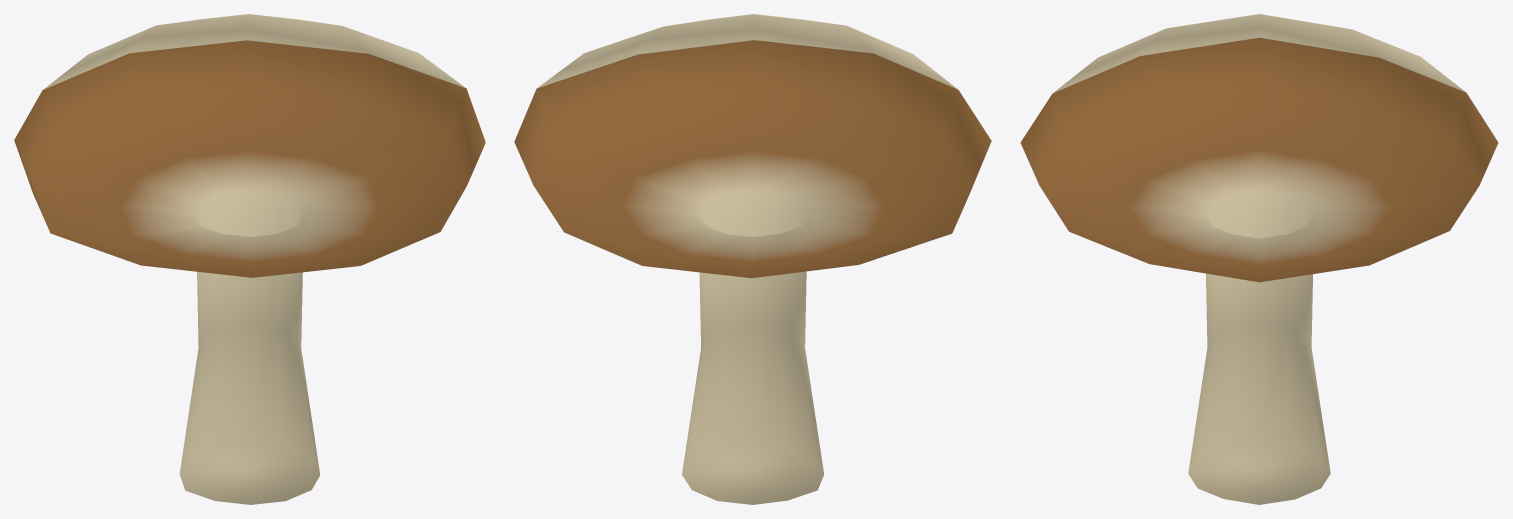
The model's file is bigshroom_1.glb.
3 renders of one model, left to right at view 1: azimuth 30°, elevation 25°; view 2: azimuth 150°, elevation 25°; view 3: azimuth 270°, elevation 25°, orthographic.
Parts seen in each view (by area): view 1: bigshroom_1; view 2: bigshroom_1; view 3: bigshroom_1.
Part boxes in pixels (bbox=[...]): bigshroom_1: bbox=[14, 14, 485, 504]; bigshroom_1: bbox=[514, 14, 991, 504]; bigshroom_1: bbox=[1020, 14, 1498, 504].
Bounding box in the file's own units: 2.69 × 2.62 × 2.59.
